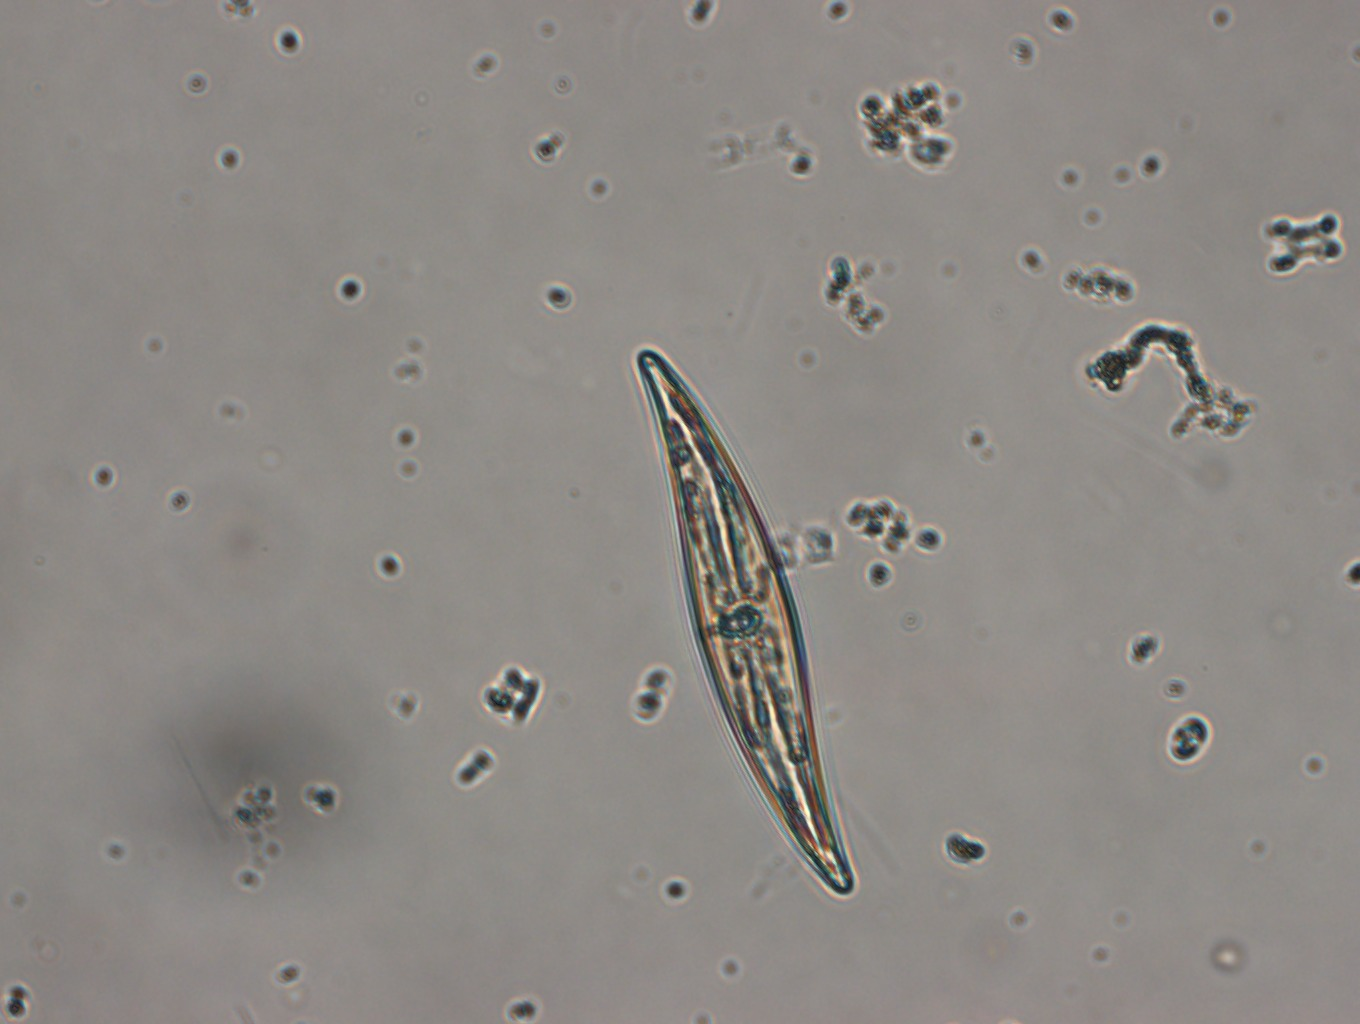pleurosigma pelagicum: (626, 344, 863, 897)
